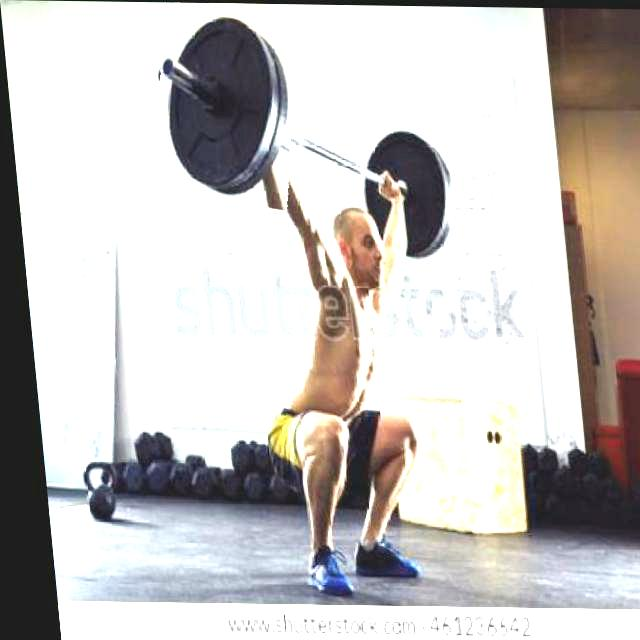barbell: (143, 6, 305, 207)
